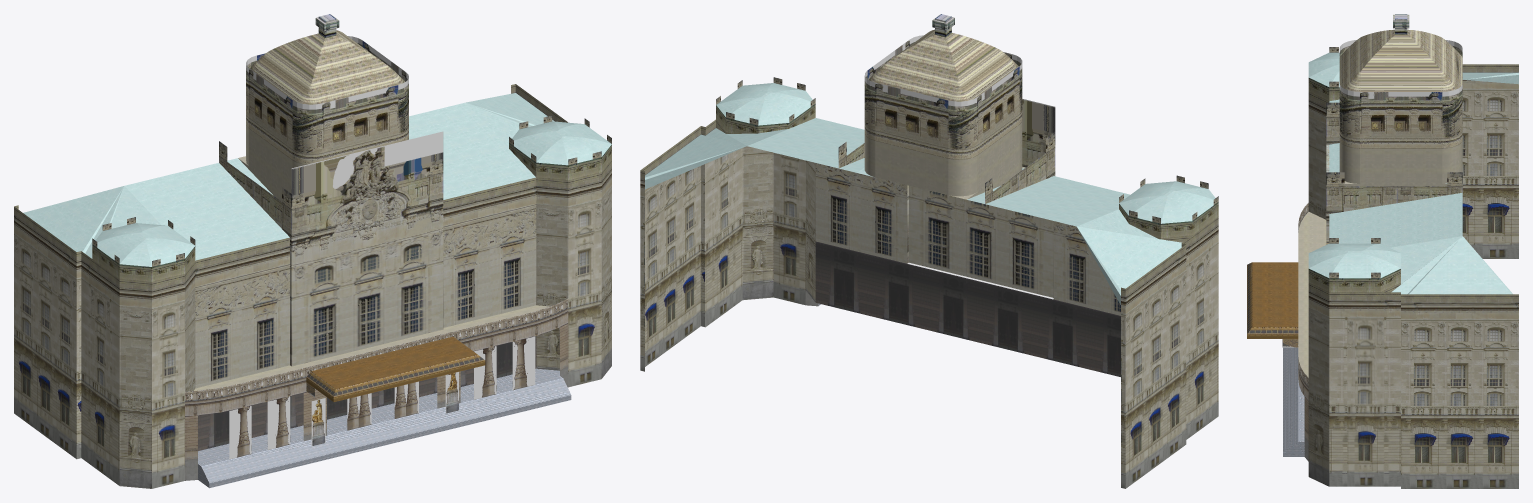
Rendered from drama.gltf.
3 renders of one model, left to right at view 1: azimuth 30°, elevation 25°; view 2: azimuth 150°, elevation 25°; view 3: azimuth 270°, elevation 25°, orthographic. The views are drawn at different scales.
Parts seen in each view (by area): view 1: group_0.023, group_0.034, group_0.090, group_0.015, group_0.041, group_0.004, group_0.022, group_0.003, group_0.018, group_0.021, group_0, group_0.071 (+20 smaller); view 2: group_0.096, group_0.023, group_0.004, group_0.090, group_0.078, group_0.003, group_0.041, group_0, group_0.012, group_0.069, group_0.021, group_0.015 (+10 smaller); view 3: group_0.078, group_0.069, group_0.023, group_0.004, group_0.003, group_0, group_0.012, group_0.041, group_0.055, group_0.034, group_0.030, group_0.005 (+10 smaller).
Boxes of the visible parts, left/top/right/bottom form: group_0.023: left=23, top=93, right=554, bottom=260; group_0.034: left=219, top=131, right=443, bottom=265; group_0.090: left=290, top=228, right=443, bottom=366; group_0.015: left=14, top=215, right=289, bottom=388; group_0.041: left=443, top=168, right=611, bottom=327; group_0.004: left=14, top=233, right=81, bottom=459; group_0.022: left=198, top=368, right=571, bottom=488; group_0.003: left=246, top=36, right=408, bottom=164; group_0.018: left=185, top=308, right=568, bottom=459; group_0.021: left=81, top=278, right=119, bottom=485; group_0: left=250, top=30, right=404, bottom=104; group_0.071: left=568, top=199, right=601, bottom=387; group_0.096: left=815, top=241, right=1120, bottom=376; group_0.023: left=645, top=118, right=1181, bottom=304; group_0.004: left=1121, top=270, right=1186, bottom=488; group_0.090: left=907, top=185, right=1053, bottom=297; group_0.078: left=640, top=164, right=704, bottom=371; group_0.003: left=864, top=35, right=1022, bottom=159; group_0.041: left=640, top=163, right=907, bottom=263; group_0: left=868, top=29, right=1018, bottom=101; group_0.012: left=864, top=121, right=1022, bottom=199; group_0.069: left=705, top=148, right=742, bottom=327; group_0.021: left=1186, top=242, right=1218, bottom=439; group_0.015: left=1053, top=221, right=1218, bottom=315; group_0.078: left=1401, top=319, right=1518, bottom=488; group_0.069: left=1329, top=317, right=1400, bottom=486; group_0.023: left=1329, top=72, right=1518, bottom=294; group_0.004: left=1462, top=89, right=1518, bottom=258; group_0.003: left=1339, top=40, right=1462, bottom=148; group_0: left=1339, top=29, right=1462, bottom=91; group_0.012: left=1339, top=141, right=1462, bottom=186; group_0.041: left=1308, top=291, right=1518, bottom=319; group_0.055: left=1308, top=308, right=1329, bottom=486; group_0.034: left=1326, top=102, right=1462, bottom=239; group_0.030: left=1252, top=262, right=1298, bottom=327; group_0.005: left=1308, top=243, right=1400, bottom=278.
Size of the model in its own units: 53 by 38.39 by 26.46.
Materials: 41 (39 with a texture image).
